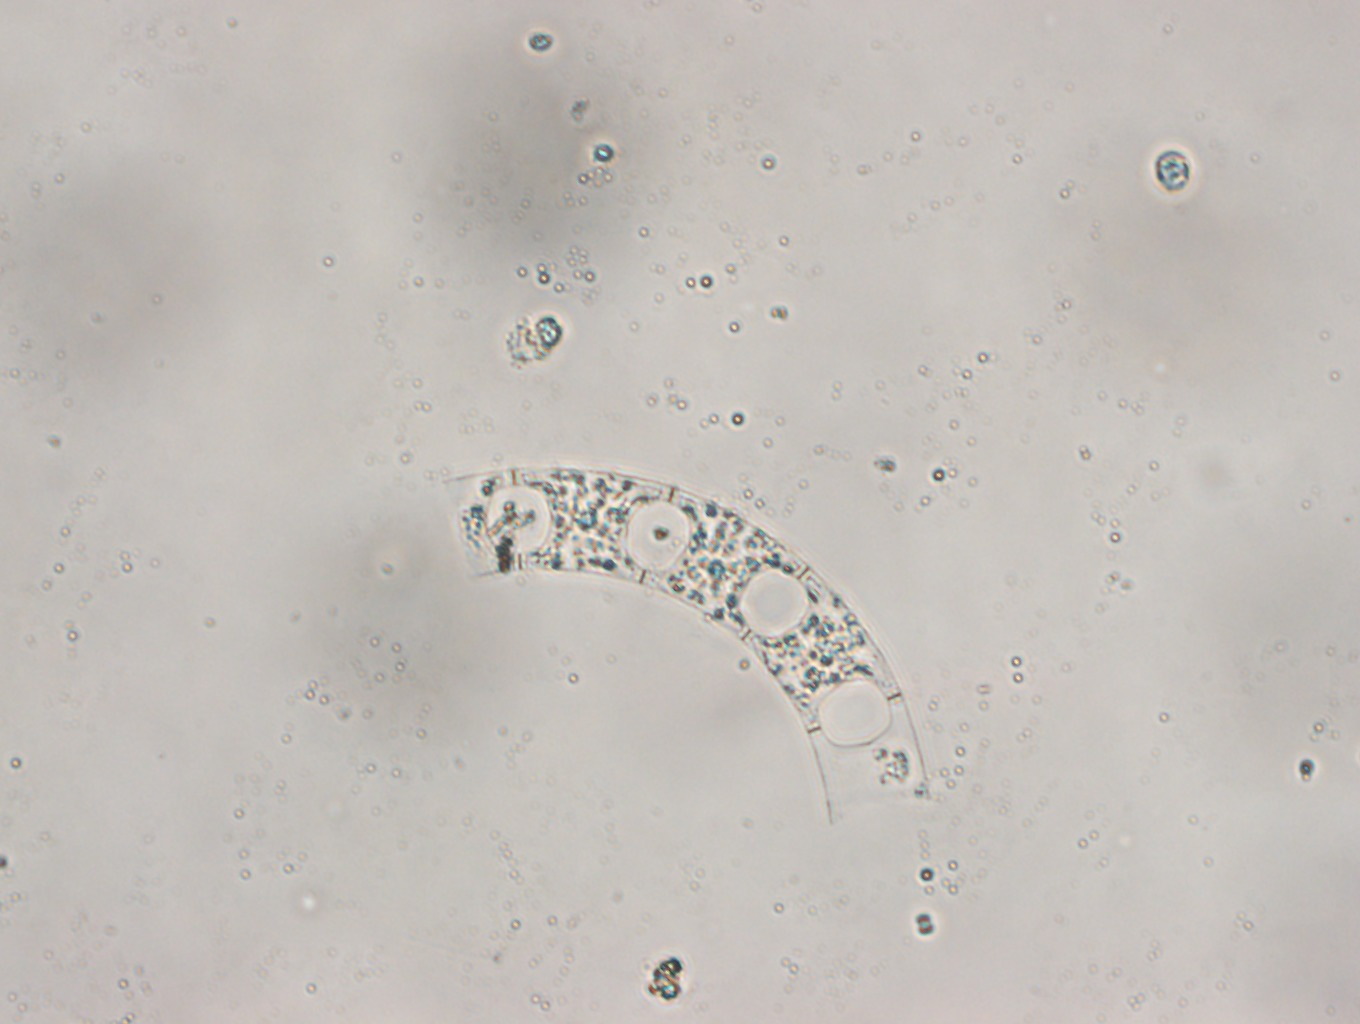eucampia: (443, 459, 932, 829)
